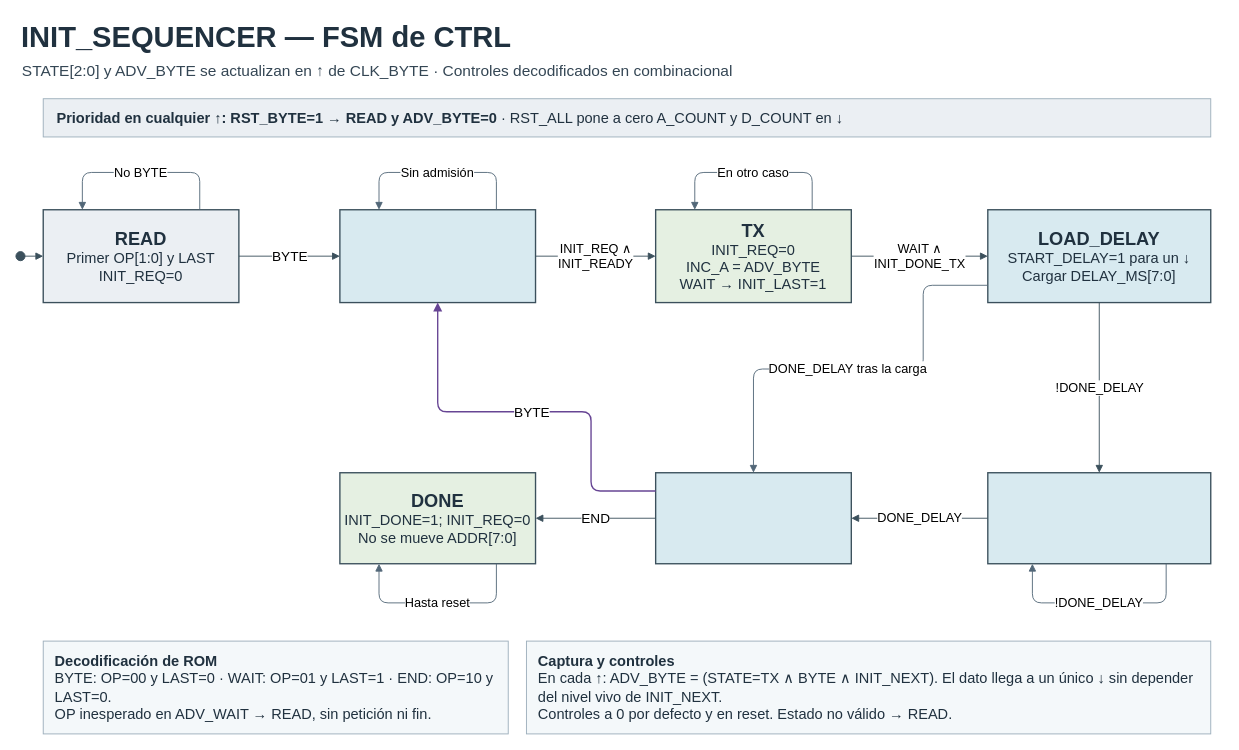
This 1239x750 diagram has some shape labels left out. The centre of each missing label's shape, as x and y in pixels:
ADV_WAIT INC_A=1 para un ↓ Leer nueva palabra en ↑: (753,518)
DELAY COUNT_DELAY=1 Retener la dirección de WAIT: (1099,518)
REQUEST INIT_REQ=1 Primer BYTE retenido: (437,256)
